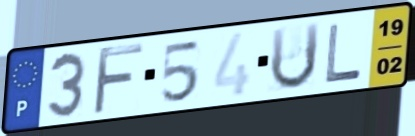3: (45, 49, 88, 121)
4: (211, 31, 253, 98)
5: (159, 37, 203, 105)
F: (90, 42, 146, 117)
L: (323, 22, 364, 86)
U: (267, 20, 323, 93)
